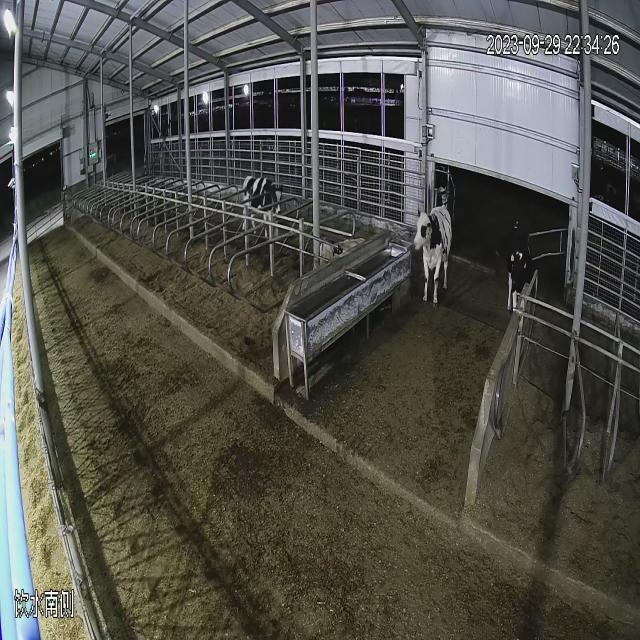lying down: (310, 227, 372, 271)
standing: (408, 192, 460, 319), (501, 206, 541, 334), (231, 165, 286, 246)
